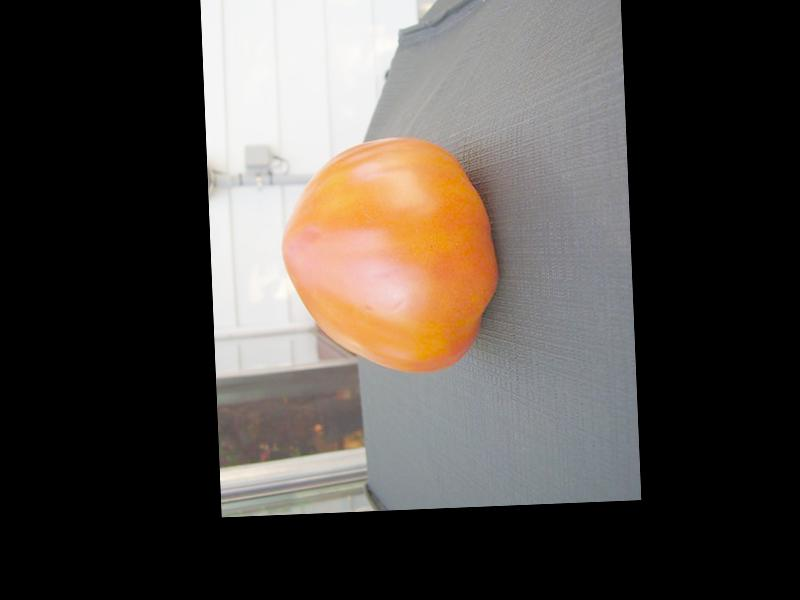Tomato: (276, 133, 499, 378)
